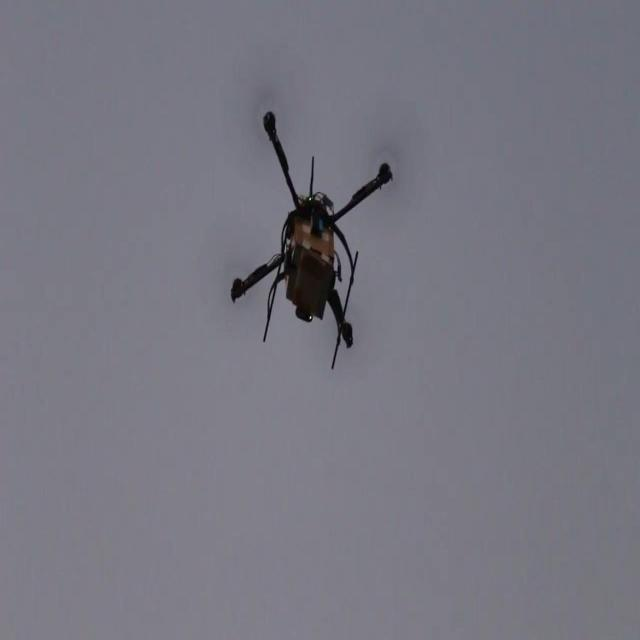drone: (229, 108, 393, 373)
